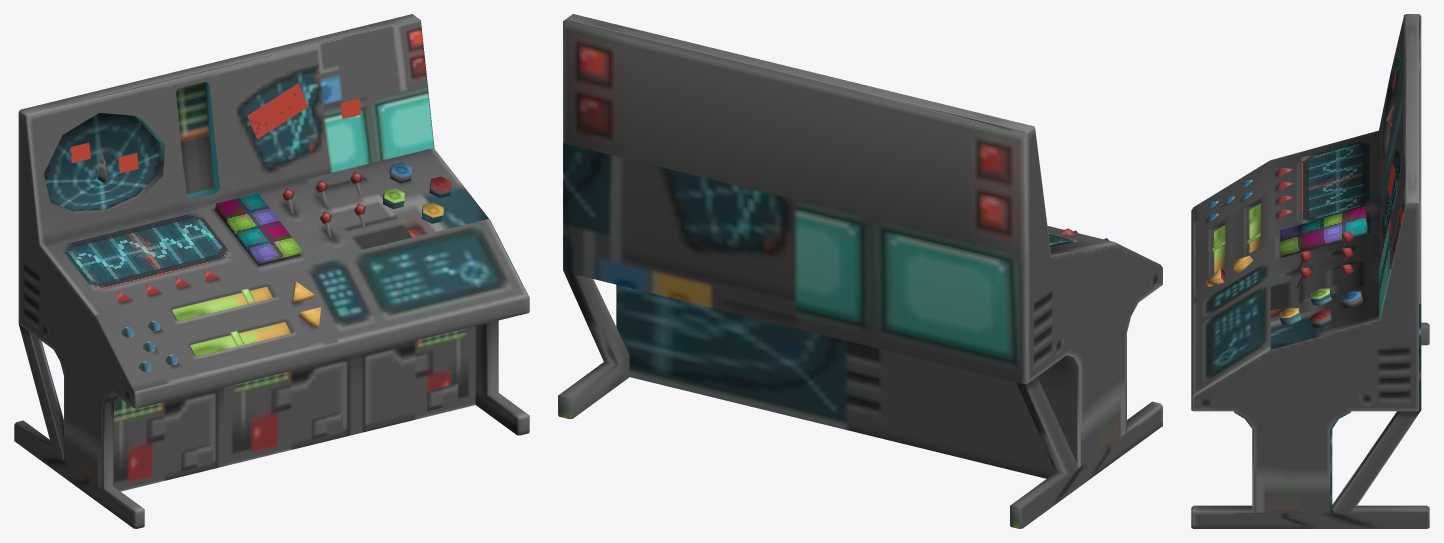
Rendered from int_sff_meterM.dae.
3 views of the same model, side by side, from view 1: azimuth 30°, elevation 25°; view 2: azimuth 150°, elevation 25°; view 3: azimuth 270°, elevation 25° (orthographic). The views are drawn at different scales.
Visible parts, largest first — view 1: int_sff_meterM; view 2: int_sff_meterM; view 3: int_sff_meterM.
Part boxes in pixels (x1,y1,x2,y2): int_sff_meterM: (14, 14, 529, 528); int_sff_meterM: (558, 14, 1162, 528); int_sff_meterM: (1191, 14, 1429, 528).
Bounding box in the file's own units: 50.29 × 40.59 × 26.78.
2 materials, 2 textured.
